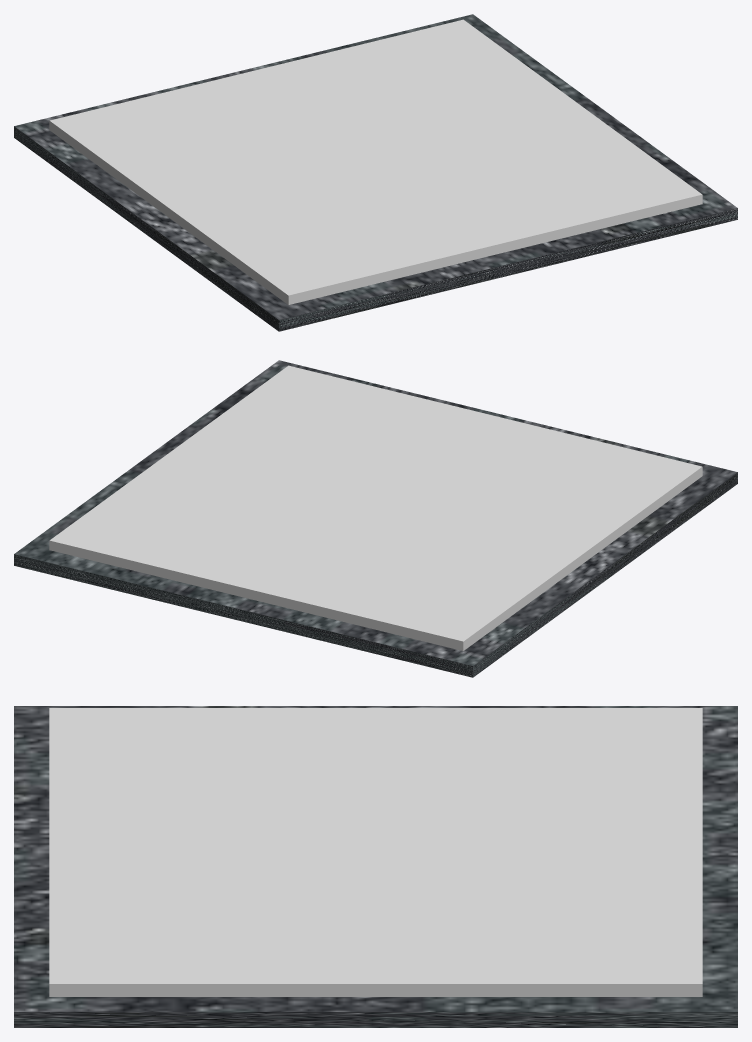
The model's file is LightPad.fbx.
3 views of the same model, one above another, from view 1: azimuth 30°, elevation 25°; view 2: azimuth 150°, elevation 25°; view 3: azimuth 270°, elevation 25° (orthographic). The views are drawn at different scales.
Parts seen in each view (by area): view 1: Cube.001; view 2: Cube.001; view 3: Cube.001.
Part boxes in pixels (left/top/right/bottom): Cube.001: left=14, top=14, right=737, bottom=331; Cube.001: left=14, top=360, right=737, bottom=677; Cube.001: left=14, top=706, right=737, bottom=1027.
Size of the model in its own units: 50 by 2.21 by 50.
